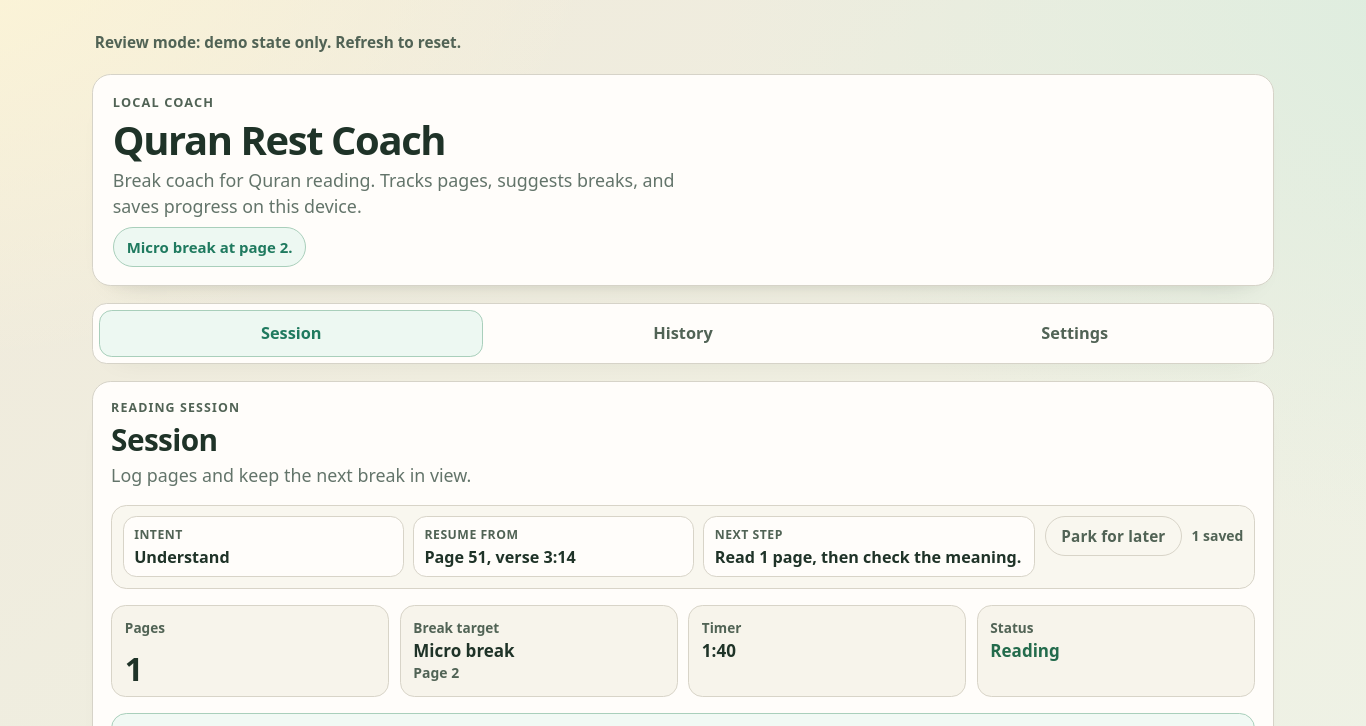
Test: Quran Rest Coach review scenarios › lets the reading review scenario save the current verse for later
The width and height of the screenshot is (1366, 726).
Click the button with aria-label "park this verse for later".
click(1113, 536)  # box [1045,516,1182,556]
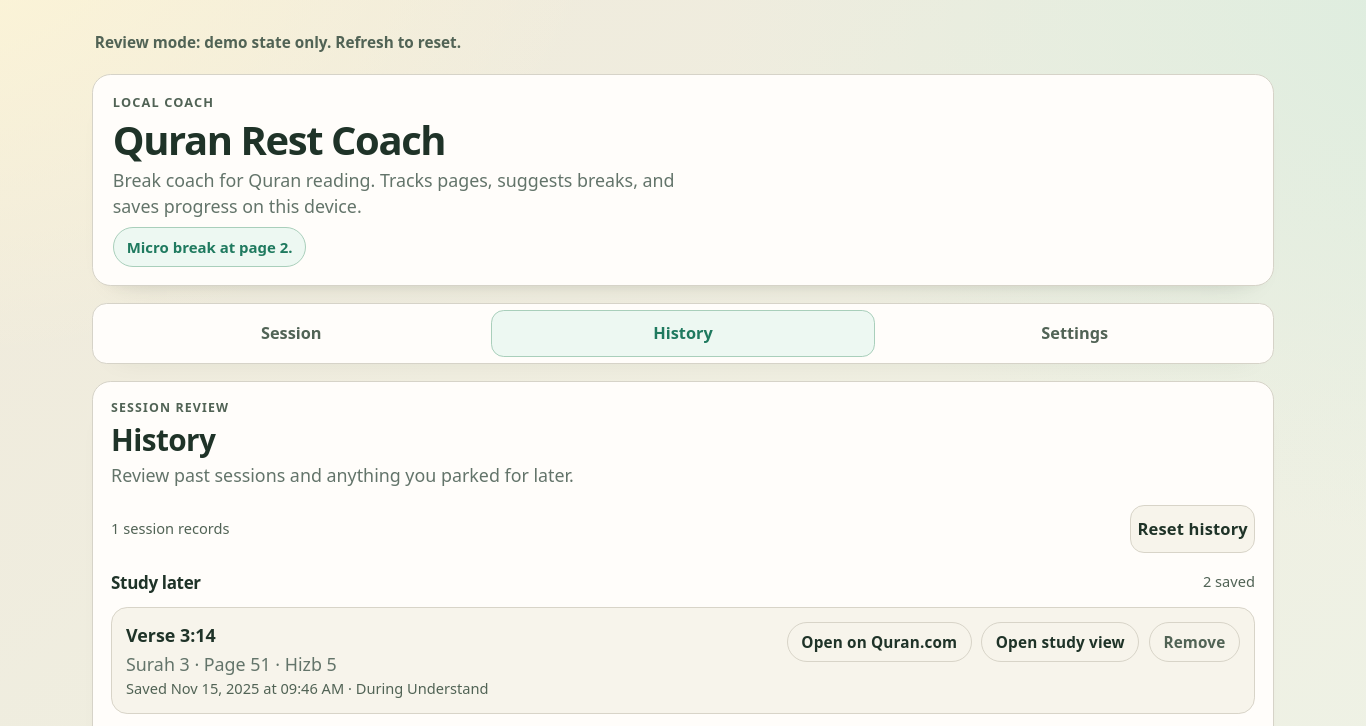
Expected: the heading "History" is shown, [111,419,215,460]
Expected: the heading "Study later" is shown, [111,570,201,595]
Expected: the link "Open on Quran.com" in the row of "Verse 3:14" is shown, [787,622,972,662]
